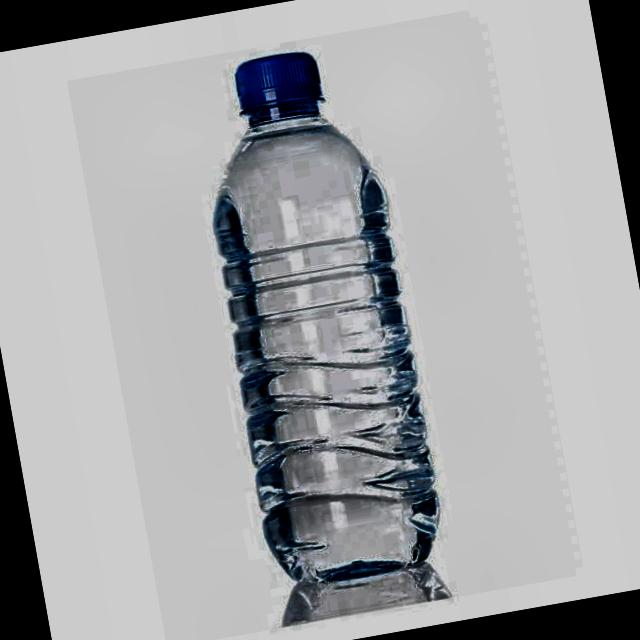plastic bottle: (182, 39, 452, 594)
